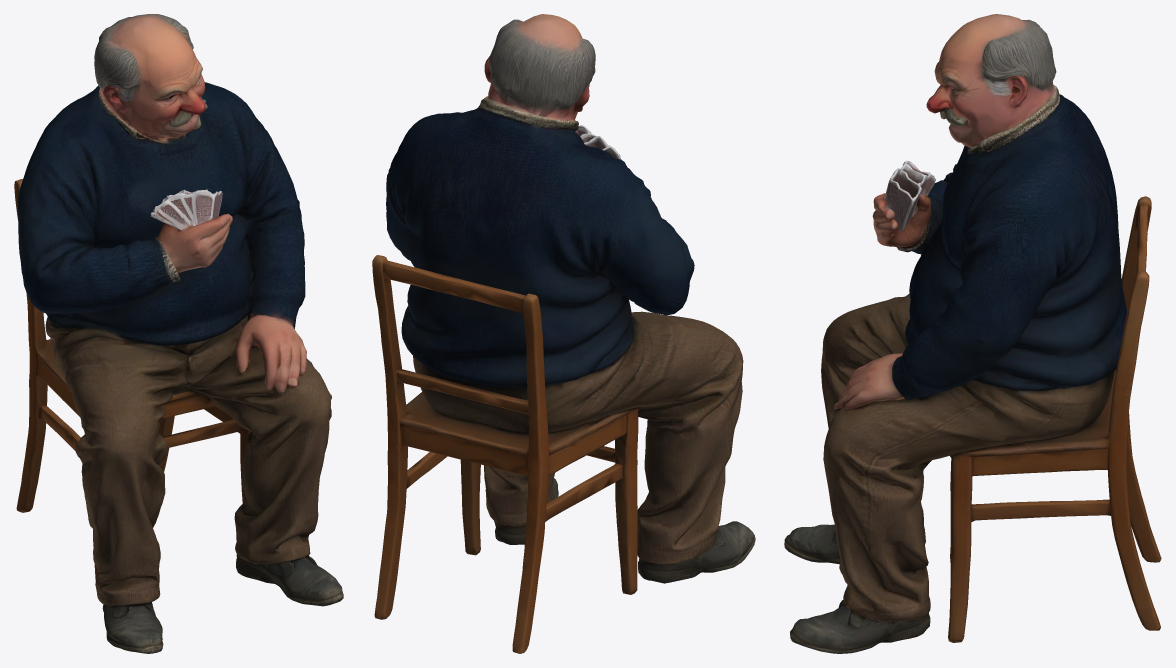
File: fero_master.glb
3 renders of one model, left to right at view 1: azimuth 30°, elevation 25°; view 2: azimuth 150°, elevation 25°; view 3: azimuth 270°, elevation 25°, orthographic. The views are drawn at different scales.
Parts seen in each view (by area): view 1: tripo_node_c3d26404-5ce8-4080-91b7-3df81e3334f3; view 2: tripo_node_c3d26404-5ce8-4080-91b7-3df81e3334f3; view 3: tripo_node_c3d26404-5ce8-4080-91b7-3df81e3334f3.
Boxes of the visible parts, left/top/right/bottom form: tripo_node_c3d26404-5ce8-4080-91b7-3df81e3334f3: left=14, top=14, right=343, bottom=653; tripo_node_c3d26404-5ce8-4080-91b7-3df81e3334f3: left=372, top=14, right=755, bottom=653; tripo_node_c3d26404-5ce8-4080-91b7-3df81e3334f3: left=784, top=14, right=1161, bottom=653.
Size of the model in its own units: 0.6881 by 1.3 by 0.7622.
1 material, 1 textured.
